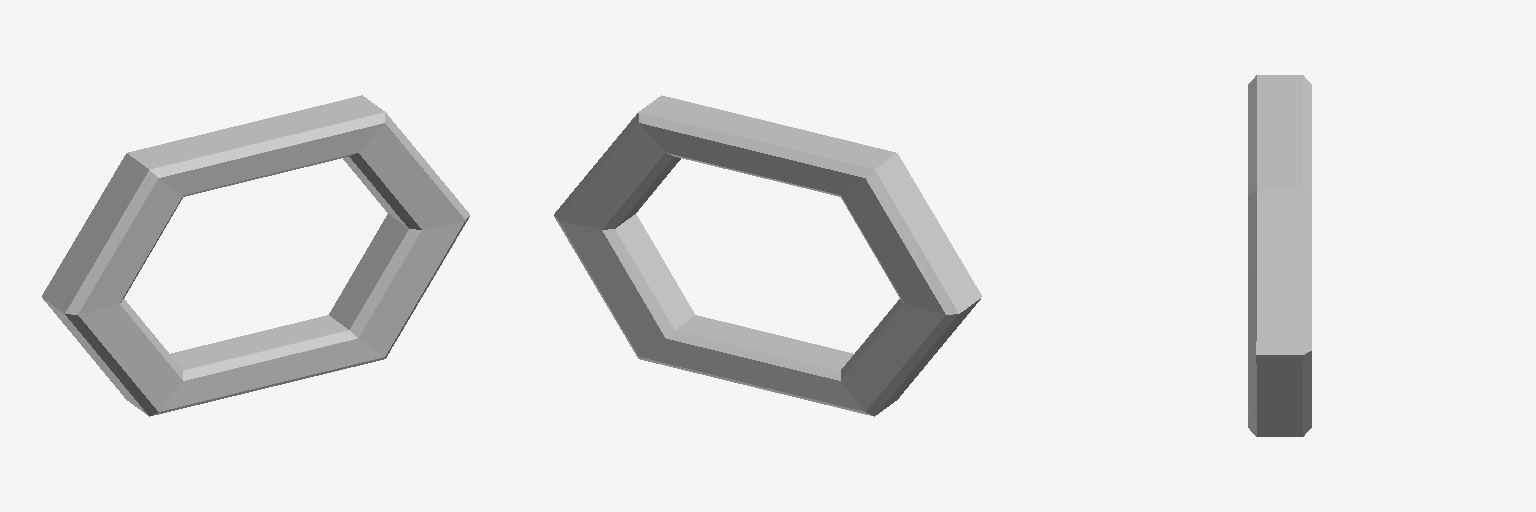
The model's file is cadena.obj.
3 views of the same model, side by side, from view 1: azimuth 30°, elevation 25°; view 2: azimuth 150°, elevation 25°; view 3: azimuth 270°, elevation 25° (orthographic).
Parts seen in each view (by area): view 1: pCube6; view 2: pCube6; view 3: pCube6.
Part boxes in pixels (bbox=[...]): pCube6: bbox=[42, 95, 469, 416]; pCube6: bbox=[554, 95, 981, 416]; pCube6: bbox=[1248, 75, 1311, 436].
Bounding box in the file's own units: 7.62 × 4.43 × 1.03.